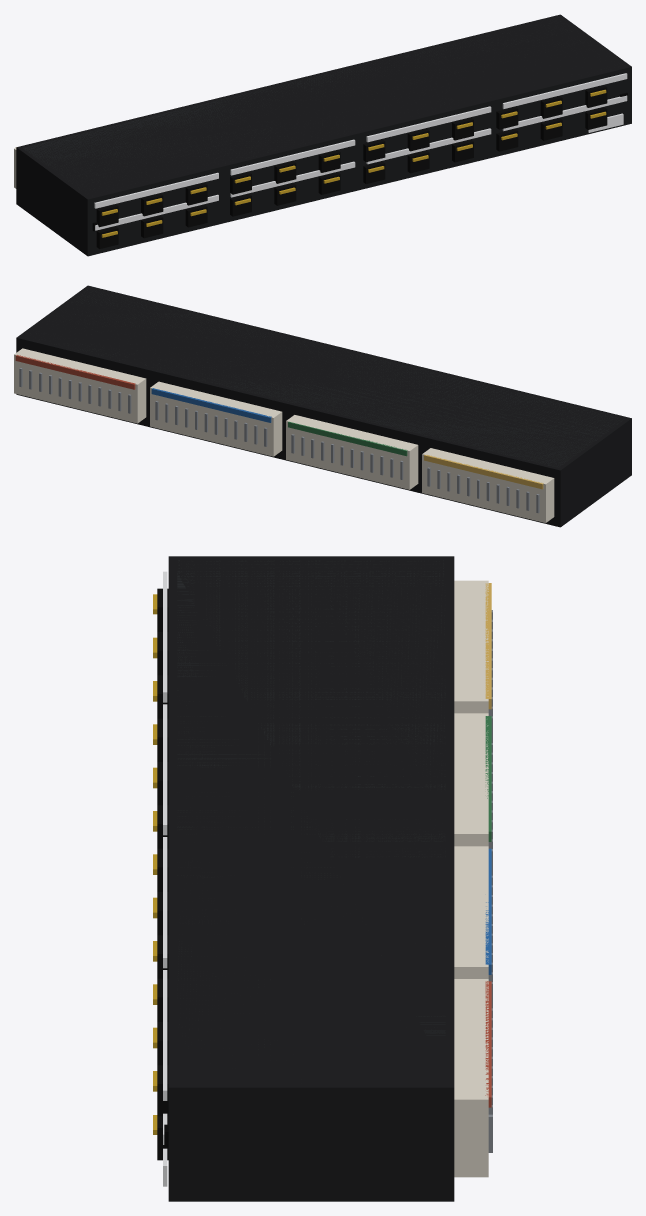
File: 18-patch-panel-cat6-24p.glb
3 views of the same model, one above another, from view 1: azimuth 30°, elevation 25°; view 2: azimuth 150°, elevation 25°; view 3: azimuth 270°, elevation 25° (orthographic). The views are drawn at different scales.
Bounding box in the file's own units: 0.44 × 0.044 × 0.119.
